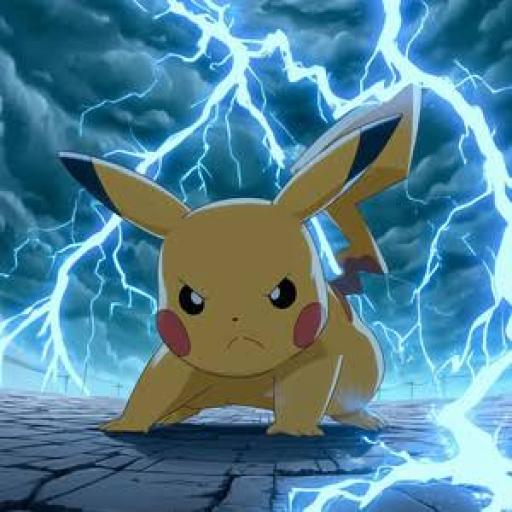Pikachu: (56, 80, 419, 437)
